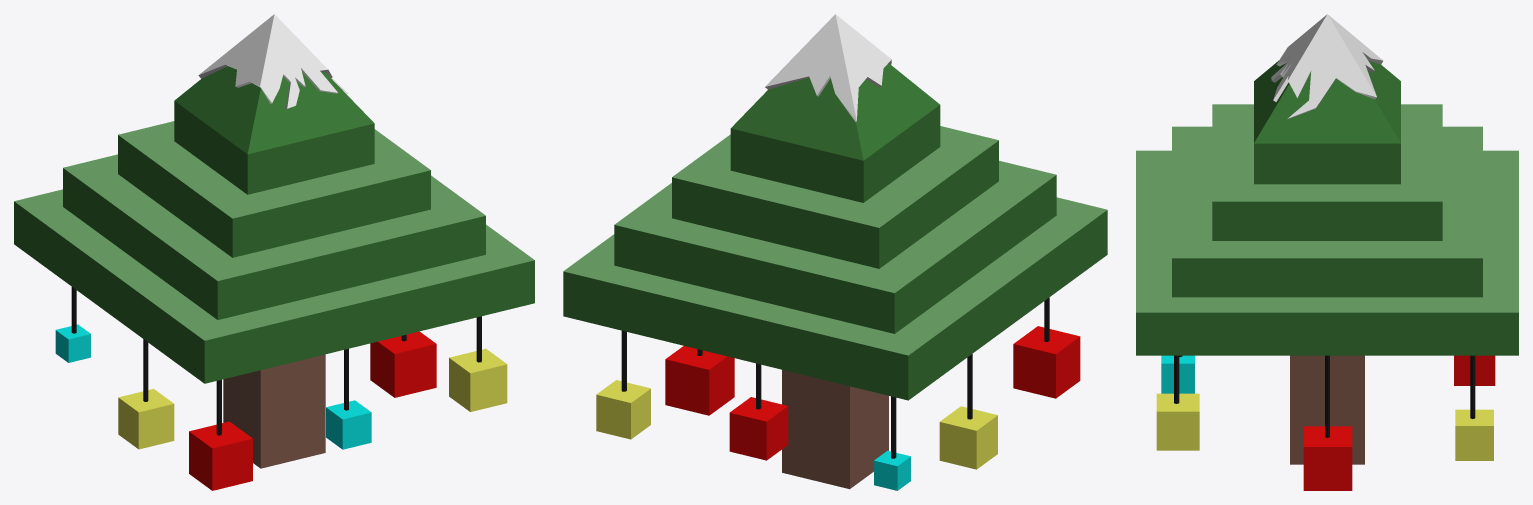
Rendered from 073 Xmas_Tree.fbx.
3 renders of one model, left to right at view 1: azimuth 30°, elevation 25°; view 2: azimuth 150°, elevation 25°; view 3: azimuth 270°, elevation 25°, orthographic. The views are drawn at different scales.
Visible parts, largest first — view 1: Lowpoly_Christmas_Pack_073:pCube10; view 2: Lowpoly_Christmas_Pack_073:pCube10; view 3: Lowpoly_Christmas_Pack_073:pCube10.
Boxes of the visible parts, <box> form: Lowpoly_Christmas_Pack_073:pCube10: <box>14,14,534,490</box>; Lowpoly_Christmas_Pack_073:pCube10: <box>563,14,1107,490</box>; Lowpoly_Christmas_Pack_073:pCube10: <box>1136,14,1518,490</box>.
Bounding box in the file's own units: 2 × 2.51 × 2.
